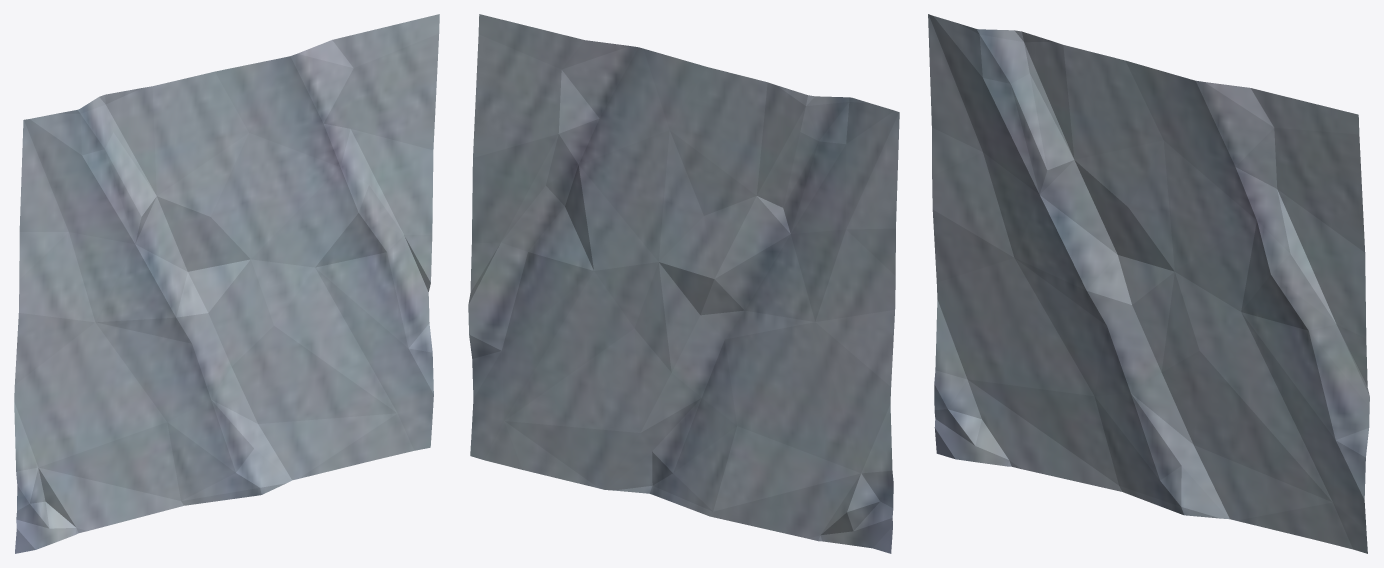
The model's file is Tile_+001_+007_L24_0012012.obj.
3 renders of one model, left to right at view 1: azimuth 30°, elevation 25°; view 2: azimuth 150°, elevation 25°; view 3: azimuth 330°, elevation 25°, orthographic. The views are drawn at different scales.
Bounding box in the file's own units: 0.9531 × 0.9531 × 0.0737.
1 material, 1 textured.
